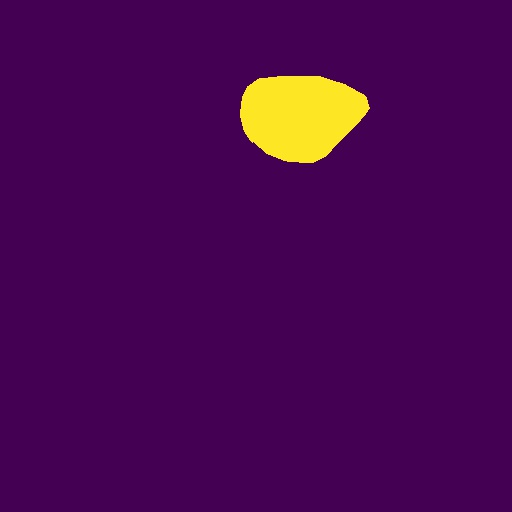Menigiomia_tumour: (240, 76, 370, 163)
